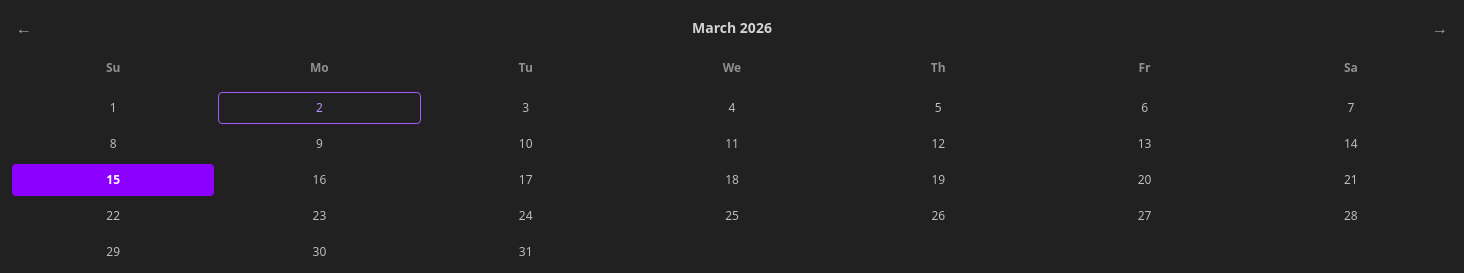
Test: Calendar › navigates to previous month when left arrow is clicked
The width and height of the screenshot is (1464, 273).
Click the button named "Previous month": (24, 28) [12,12,36,44]
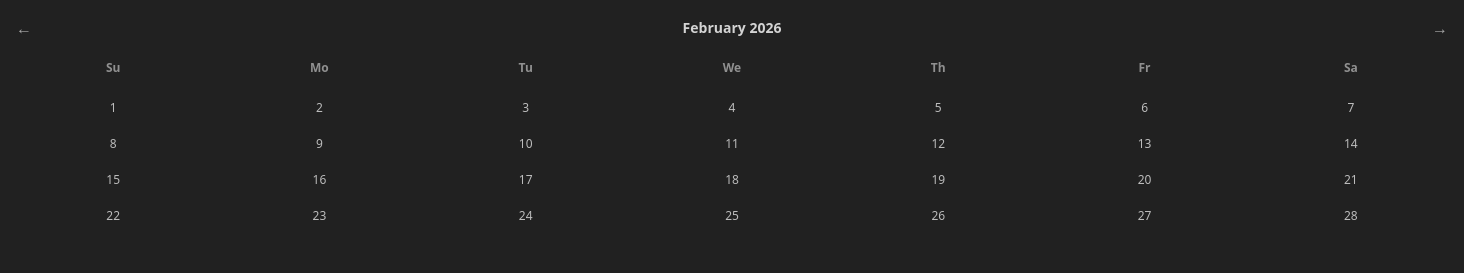
Now the text "February 2026" is shown, box [683,18,781,38]
